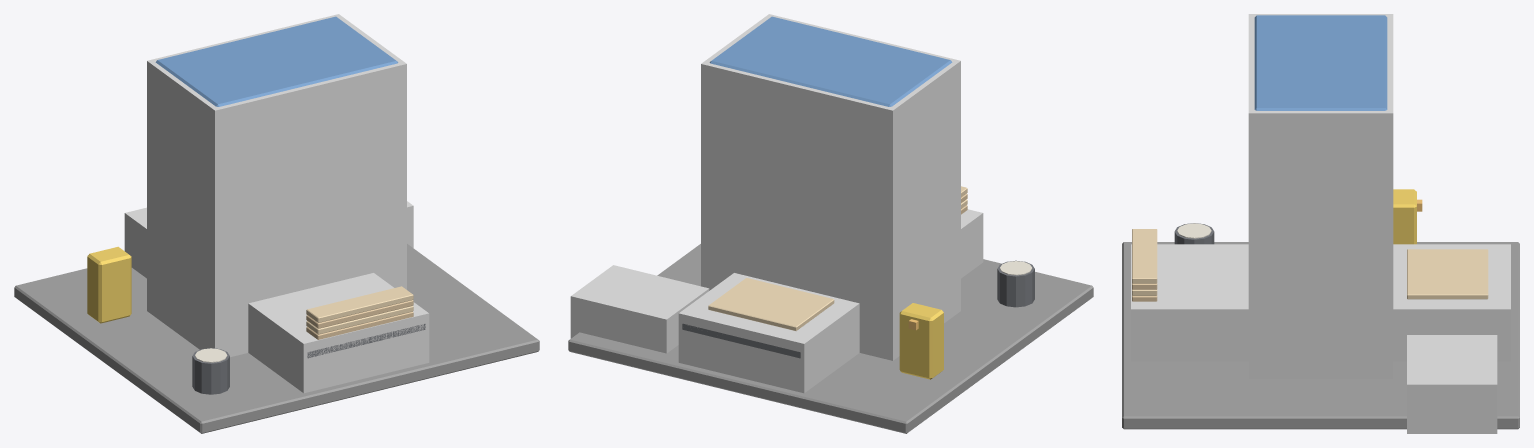
Rendered from PanelPress.fbx.
3 views of the same model, side by side, from view 1: azimuth 30°, elevation 25°; view 2: azimuth 150°, elevation 25°; view 3: azimuth 270°, elevation 25° (orthographic). The views are drawn at different scales.
Visible parts, largest first — view 1: COL_Press, Base, COL_Tables; view 2: COL_Press, Base, COL_Tables, COL_Side, Panel; view 3: COL_Press, Base, COL_Tables, COL_Side, Panel.
Part boxes in pixels (x1,y1,x2,y2): COL_Press: [147, 14, 406, 357]; Base: [14, 16, 539, 433]; COL_Tables: [124, 207, 429, 393]; COL_Press: [701, 14, 960, 360]; Base: [568, 16, 1093, 433]; COL_Tables: [678, 209, 983, 393]; COL_Side: [570, 265, 709, 353]; Panel: [708, 278, 834, 330]; COL_Press: [1248, 14, 1393, 378]; Base: [1122, 15, 1519, 429]; COL_Tables: [1131, 244, 1510, 361]; COL_Side: [1407, 335, 1497, 433]; Panel: [1407, 249, 1488, 299].
Bounding box in the file's own units: 4.7 × 3.43 × 4.4.
